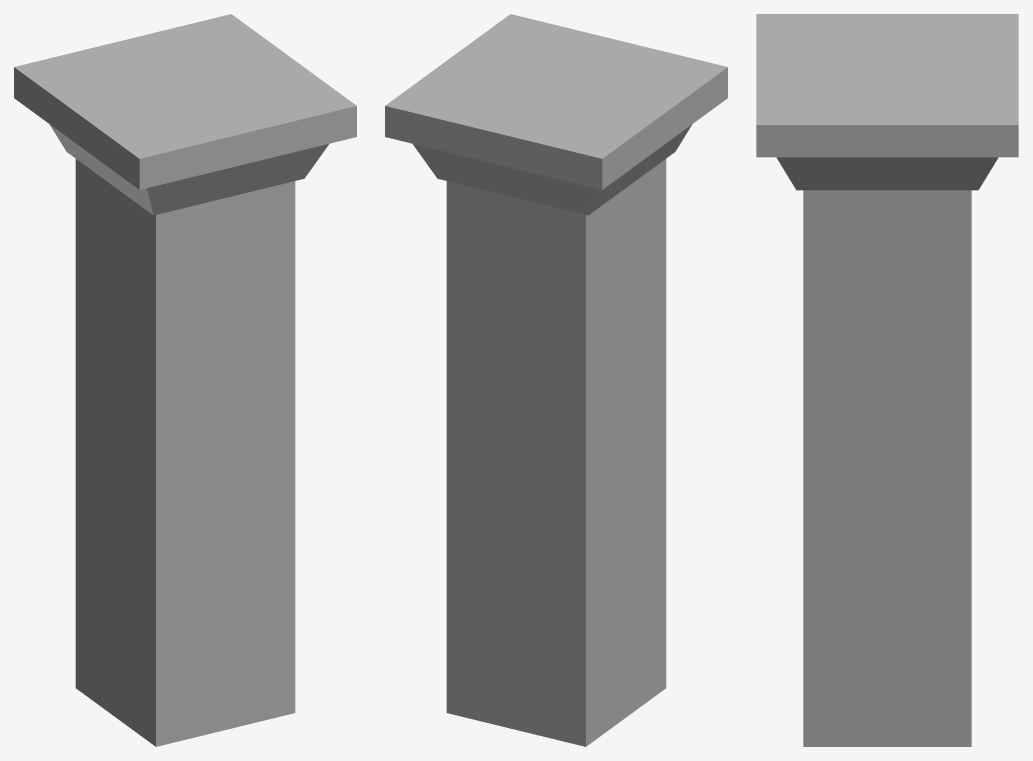
File: Pillar_Fallen (2).fbx
3 views of the same model, side by side, from view 1: azimuth 30°, elevation 25°; view 2: azimuth 150°, elevation 25°; view 3: azimuth 270°, elevation 25° (orthographic). The views are drawn at different scales.
Visible parts, largest first — view 1: Pillar_Fallen (2); view 2: Pillar_Fallen (2); view 3: Pillar_Fallen (2).
Part boxes in pixels (x1,y1,x2,y2): Pillar_Fallen (2): (14,14,356,746); Pillar_Fallen (2): (385,14,727,746); Pillar_Fallen (2): (756,14,1018,746).
Size of the model in its own units: 1.09 by 1.09 by 2.95.
Materials: 1 (1 with a texture image).
